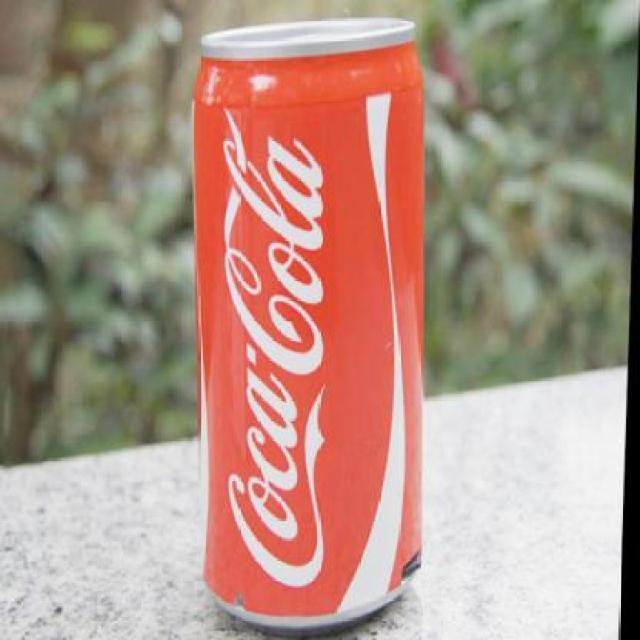Metal: (186, 16, 441, 640)
